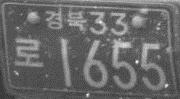1: (57, 36, 74, 89)
3: (88, 10, 107, 35), (108, 11, 127, 36)
5: (110, 39, 136, 90), (140, 42, 166, 91)
6: (82, 38, 108, 88)
경북_O: (44, 7, 86, 34)
로: (13, 36, 46, 69)
